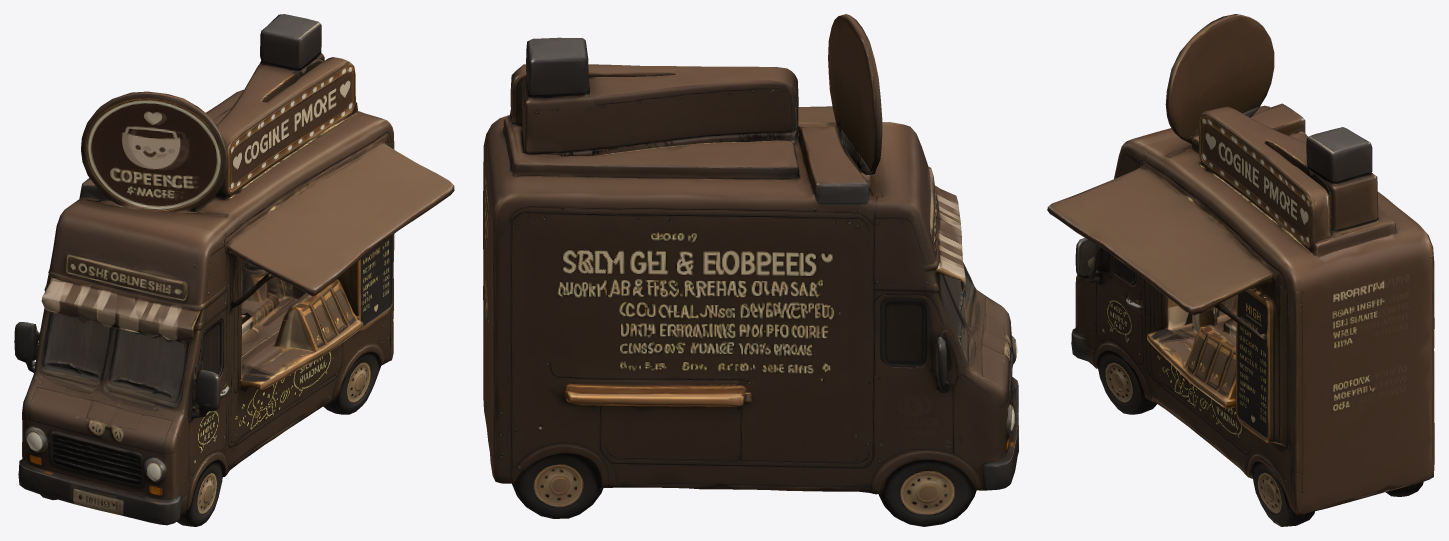
File: Brown Coffee Truck.fbx
The picture shows the model from 3 angles, left to right: view 1: azimuth 30°, elevation 25°; view 2: azimuth 150°, elevation 25°; view 3: azimuth 270°, elevation 25°; orthographic projection. The views are drawn at different scales.
Parts seen in each view (by area): view 1: input; view 2: input; view 3: input.
Boxes of the visible parts, x1,y1,x2,y2 form: input: [14, 14, 454, 526]; input: [483, 14, 1018, 526]; input: [1047, 14, 1434, 526].
Size of the model in its own units: 99.88 by 90.19 by 80.42.
1 material, 1 textured.
